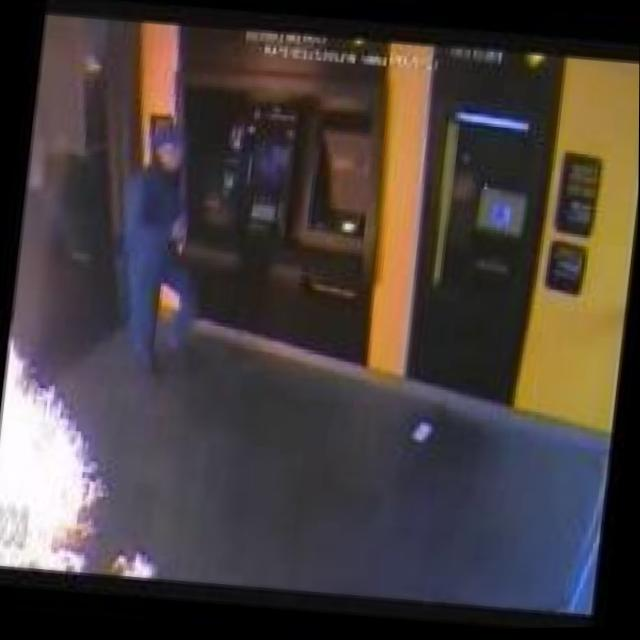fire: (0, 311, 195, 589)
